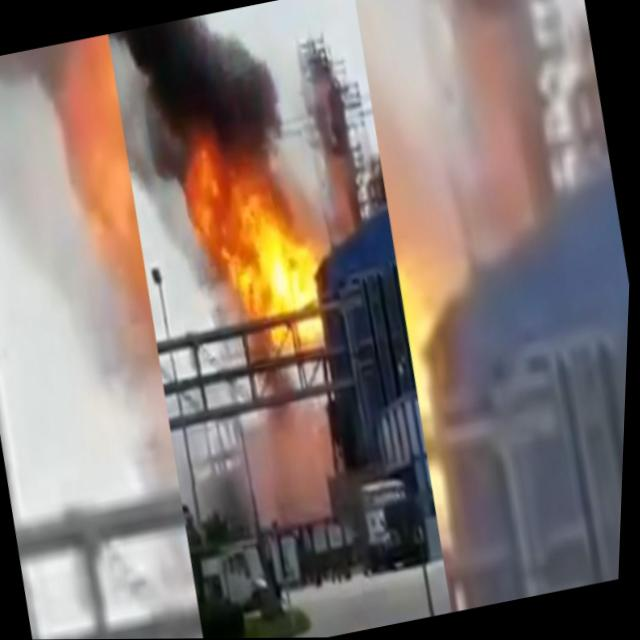fire: (171, 136, 348, 378), (388, 250, 476, 554)
